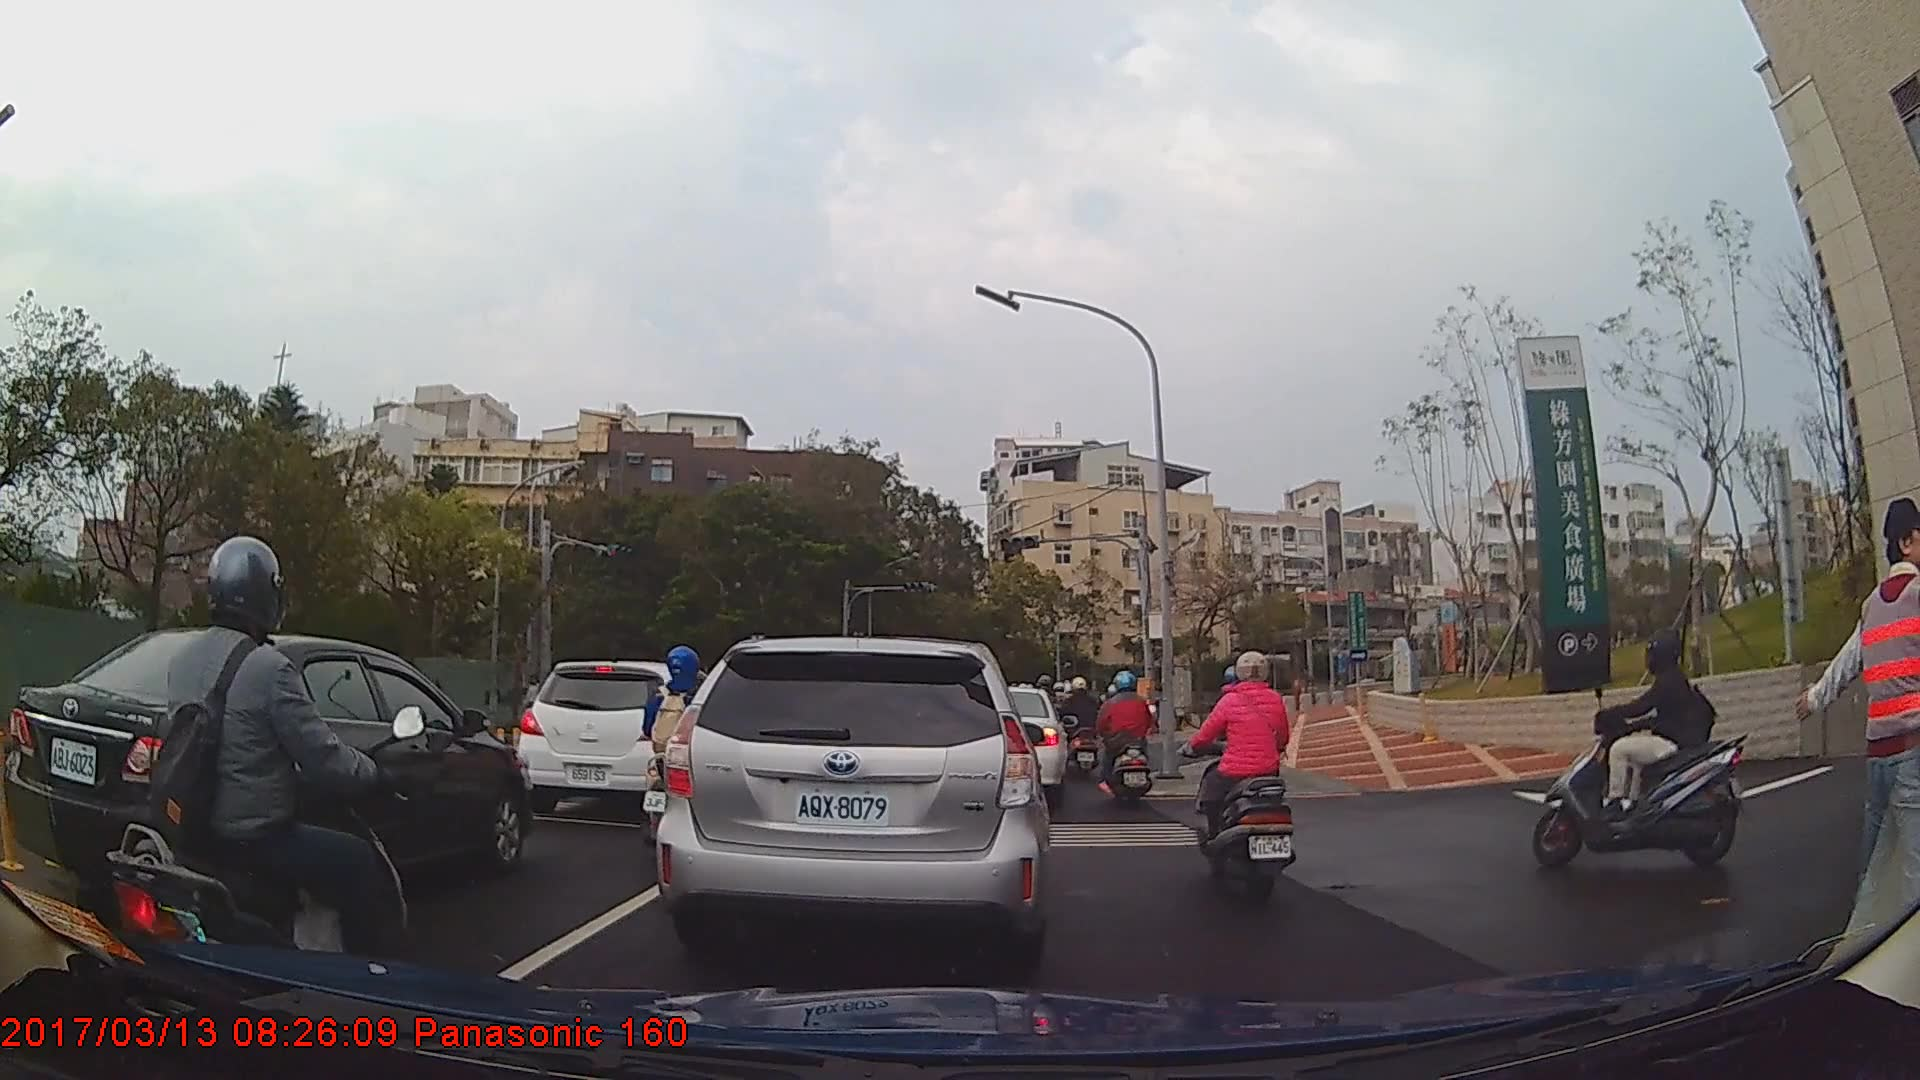pedestrian: (1800, 494, 1920, 979)
rider: (99, 541, 423, 1040), (1531, 638, 1750, 869), (1185, 648, 1295, 904), (641, 642, 721, 856), (1095, 668, 1160, 819), (1065, 674, 1106, 781)
vehicle: (6, 627, 530, 922), (650, 634, 1054, 954), (515, 659, 728, 817), (961, 685, 1068, 801)
